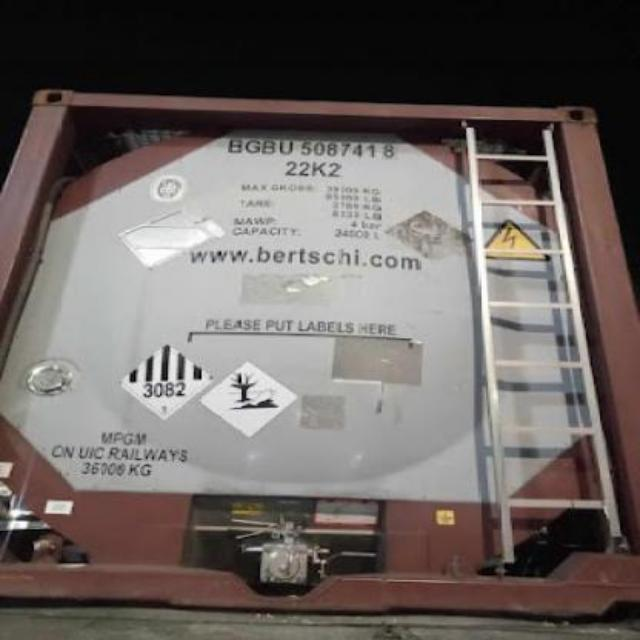0: (312, 136, 326, 158)
1: (364, 134, 382, 164)
4: (351, 132, 364, 162)
5: (300, 134, 312, 156)
7: (336, 134, 349, 162)
8: (380, 138, 398, 166), (324, 138, 338, 156)
B: (230, 134, 243, 156), (262, 135, 276, 155)
G: (247, 134, 260, 158)
U: (279, 136, 295, 158)
